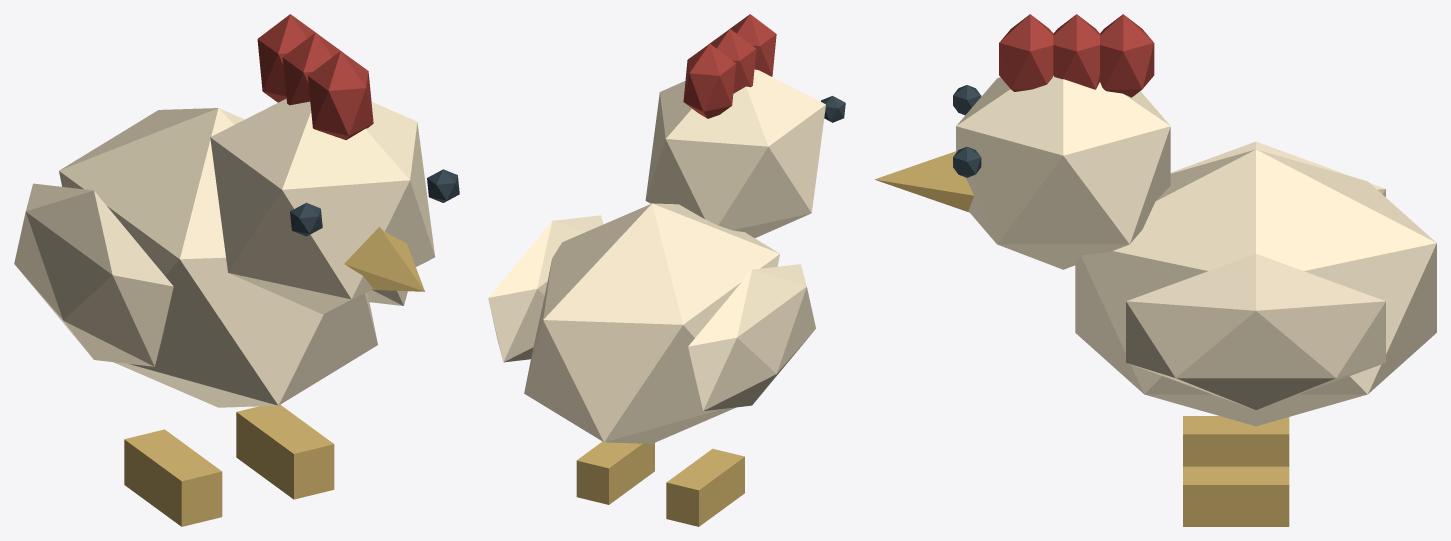
The model's file is chicken.glb.
The picture shows the model from 3 angles, left to right: view 1: azimuth 30°, elevation 25°; view 2: azimuth 150°, elevation 25°; view 3: azimuth 270°, elevation 25°; orthographic projection. The views are drawn at different scales.
Visible parts, largest first — view 1: body_bob, head_peck, wing_flutter, foot, foot.001, comb, beak, comb.002, comb.001, eye, eye.001, wing_flutter.001; view 2: body_bob, head_peck, wing_flutter, wing_flutter.001, foot, foot.001, comb.002, comb.001, comb, eye; view 3: body_bob, head_peck, wing_flutter.001, foot.001, foot, comb.002, comb, beak, comb.001, wing_flutter, eye.001.
Part boxes in pixels (x1,y1,x2,y2): body_bob: [59, 108, 377, 407]; head_peck: [210, 98, 434, 314]; wing_flutter: [14, 183, 173, 366]; foot: [124, 429, 222, 526]; foot.001: [236, 404, 334, 499]; comb: [308, 51, 373, 139]; beak: [344, 227, 424, 291]; comb.002: [257, 14, 315, 102]; comb.001: [282, 32, 340, 105]; eye: [290, 202, 322, 236]; eye.001: [427, 169, 459, 202]; wing_flutter.001: [367, 290, 407, 305]; body_bob: [524, 203, 779, 443]; head_peck: [645, 69, 825, 237]; wing_flutter: [688, 264, 815, 410]; wing_flutter.001: [488, 215, 603, 362]; foot: [666, 448, 744, 526]; foot.001: [576, 441, 654, 504]; comb.002: [683, 43, 736, 118]; comb.001: [710, 29, 756, 93]; comb: [730, 14, 776, 76]; eye: [821, 96, 845, 122]; body_bob: [1075, 149, 1436, 426]; head_peck: [956, 75, 1170, 269]; wing_flutter.001: [1126, 254, 1385, 409]; foot.001: [1183, 466, 1289, 526]; foot: [1183, 416, 1289, 466]; comb.002: [1100, 14, 1154, 97]; comb: [999, 14, 1053, 91]; beak: [874, 151, 973, 212]; comb.001: [1053, 14, 1099, 89]; wing_flutter: [1170, 141, 1385, 196]; eye.001: [953, 146, 981, 177].
Bounding box in the file's own units: 0.4984 × 0.795 × 0.8472.
